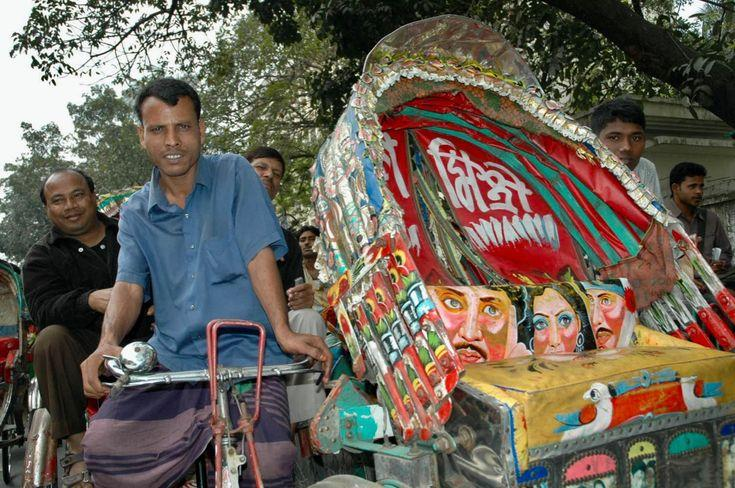Rickshaw: (311, 15, 734, 487), (0, 260, 29, 484)
